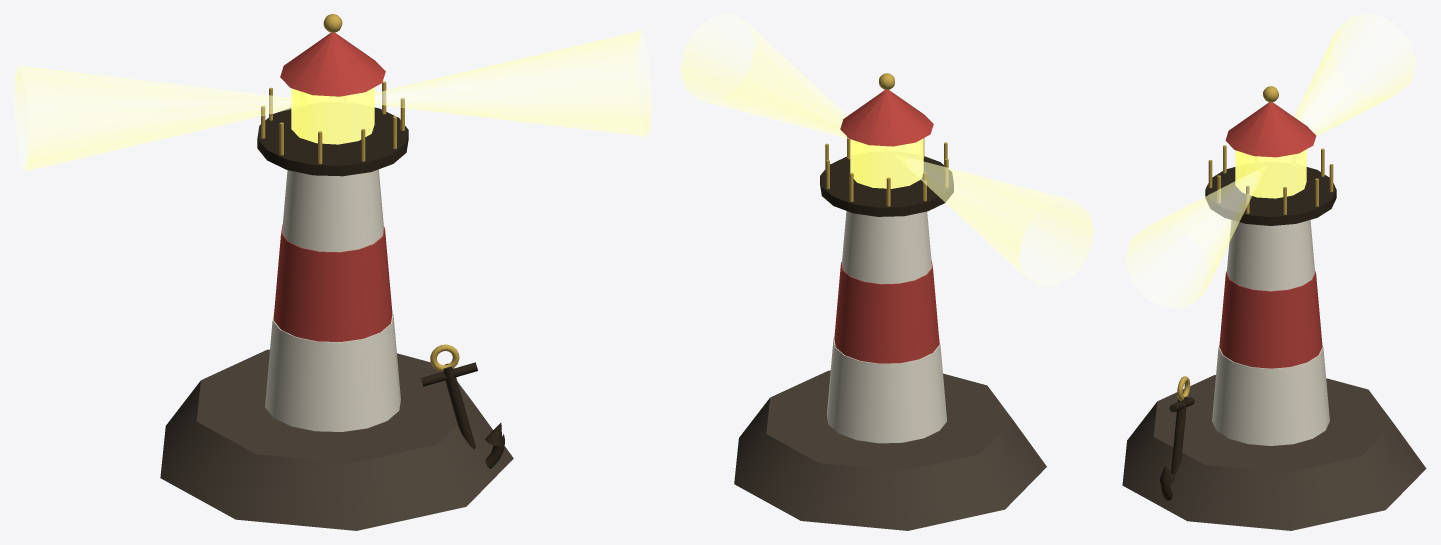
The model's file is lighthouse.glb.
The picture shows the model from 3 angles, left to right: view 1: azimuth 30°, elevation 25°; view 2: azimuth 150°, elevation 25°; view 3: azimuth 270°, elevation 25°; orthographic projection. The views are drawn at different scales.
Bounding box in the file's own units: 3.26 × 2.55 × 1.86.
